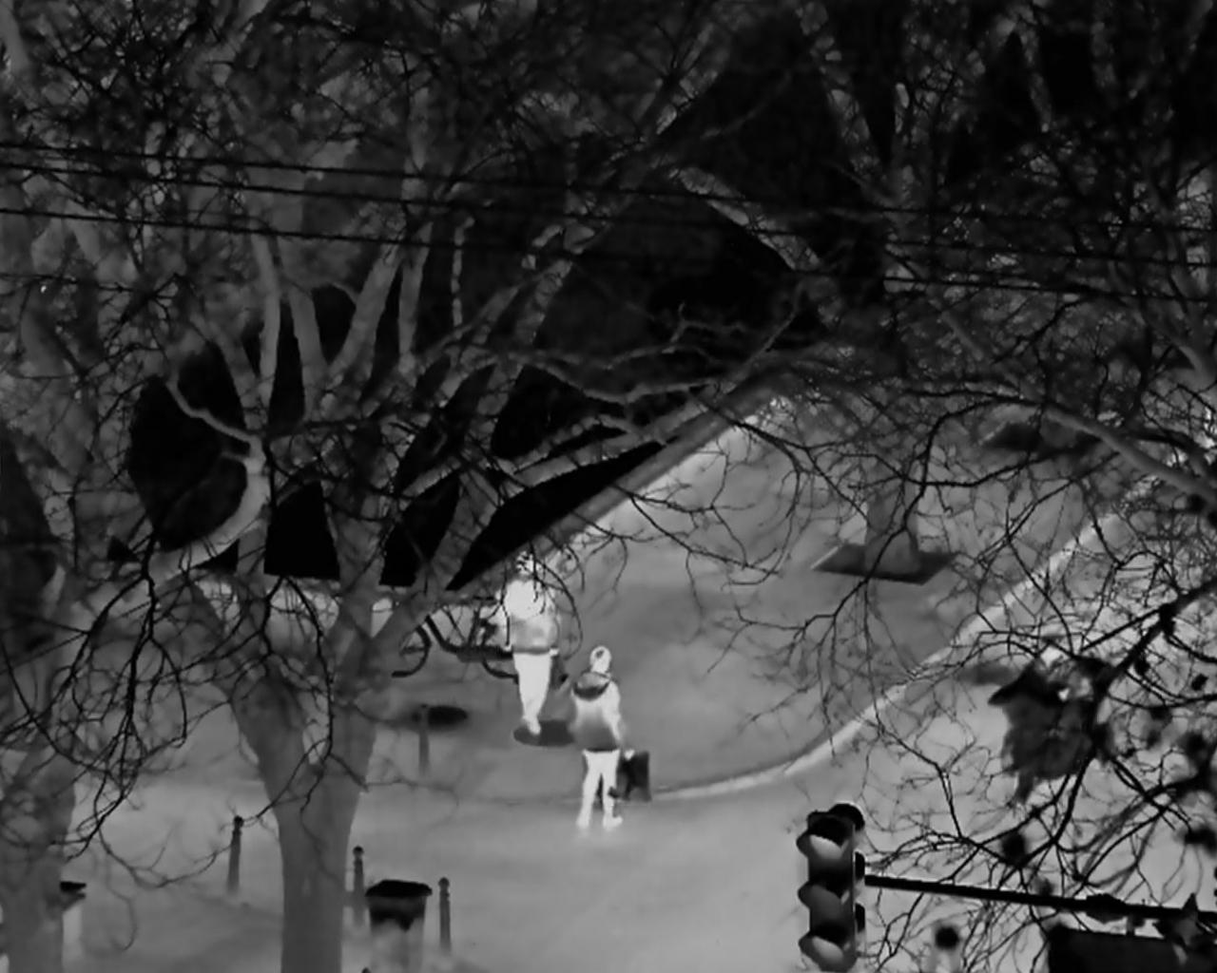person: (495, 553, 560, 739), (570, 645, 634, 831)
